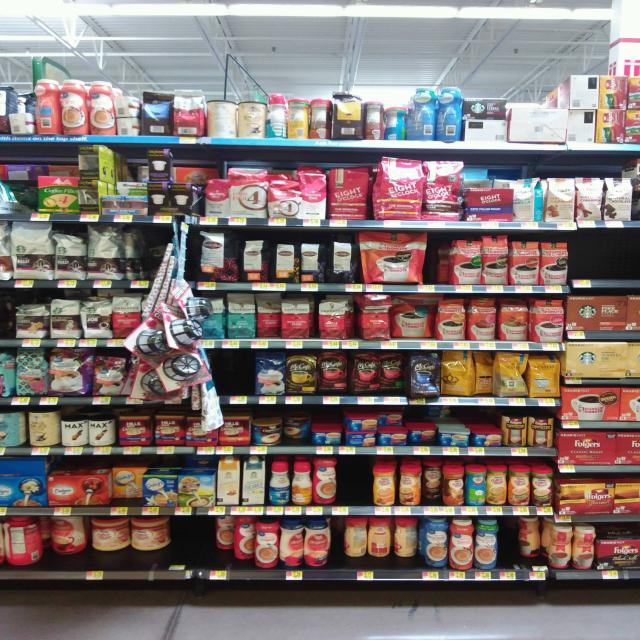unorganised: (49, 517, 171, 564), (343, 514, 418, 566), (408, 83, 464, 145), (474, 349, 529, 400), (212, 513, 254, 568), (5, 515, 46, 566), (439, 350, 475, 401), (204, 91, 239, 139), (32, 77, 59, 138), (280, 518, 305, 571), (109, 470, 143, 507), (255, 292, 281, 340), (379, 350, 406, 396), (517, 515, 543, 562), (422, 461, 443, 504), (280, 415, 310, 443), (114, 178, 147, 199), (376, 412, 404, 429)
